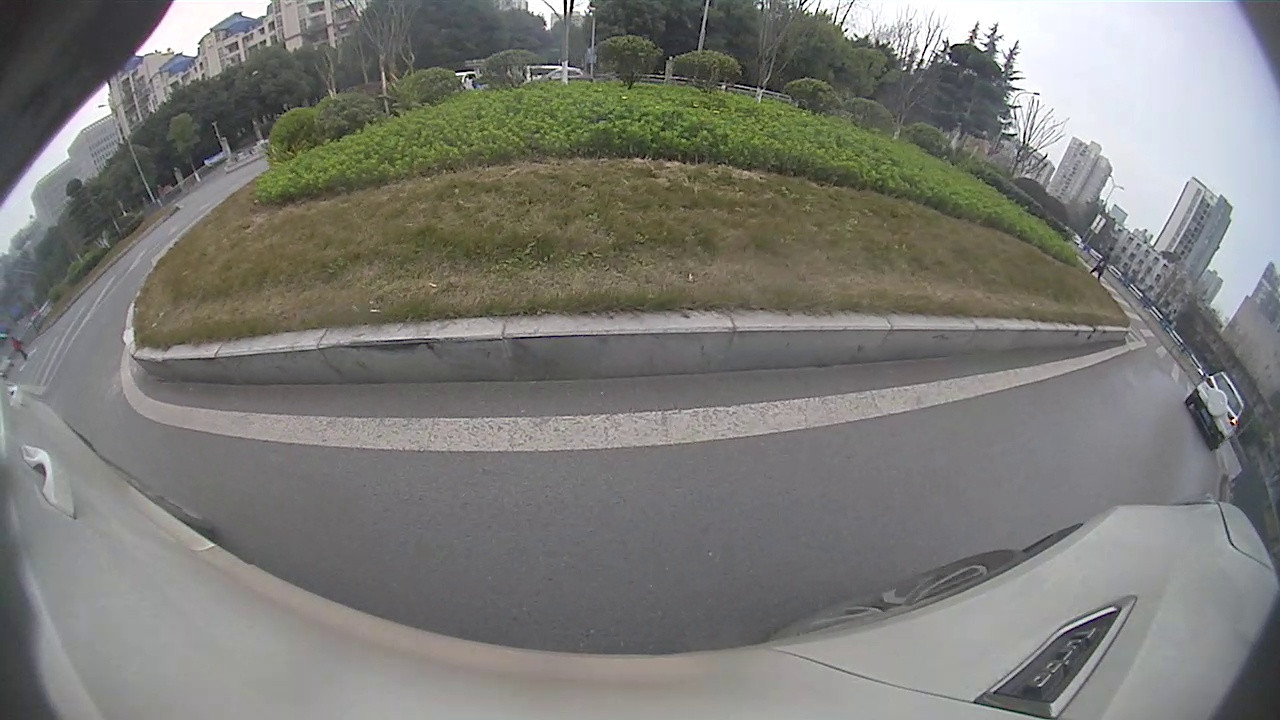car: (1184, 373, 1246, 452)
